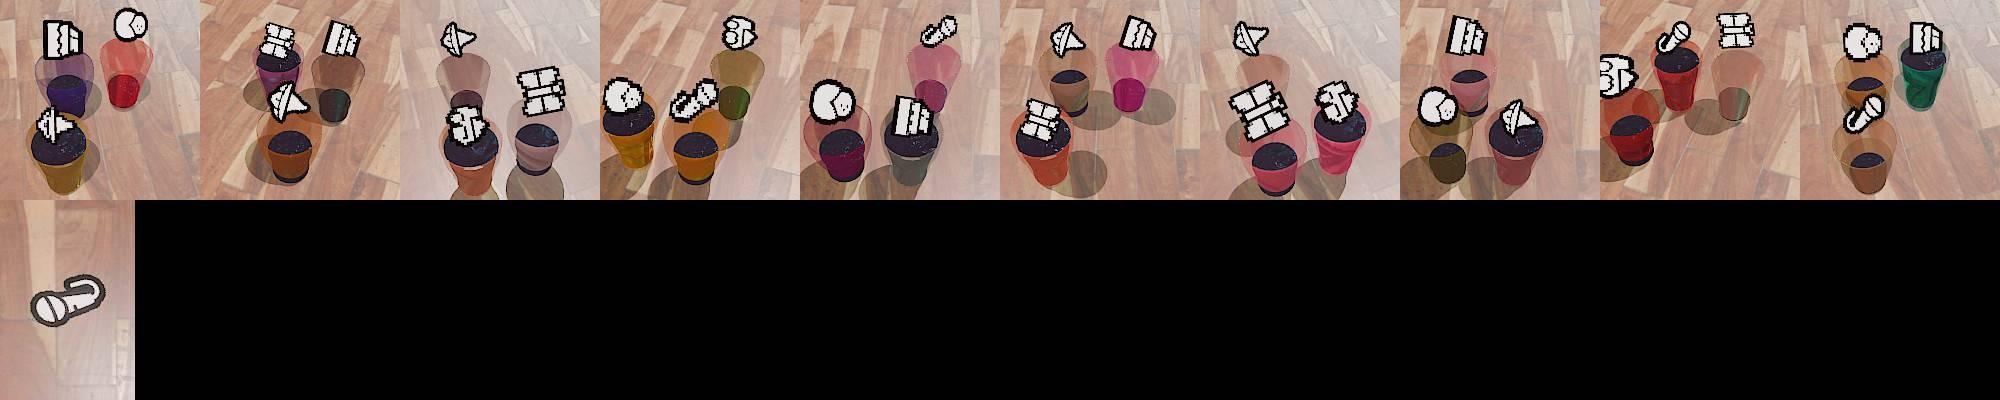icon: (24, 273, 106, 330), (1230, 79, 1292, 144), (514, 65, 566, 118), (1314, 78, 1358, 126), (668, 79, 719, 121), (809, 78, 856, 122), (1019, 97, 1061, 144), (890, 93, 934, 138), (1417, 85, 1460, 129), (446, 103, 489, 146), (1599, 52, 1639, 98), (1445, 15, 1487, 57), (258, 22, 300, 64), (268, 80, 311, 121), (602, 76, 647, 116), (42, 18, 82, 61), (1714, 11, 1756, 51), (1844, 93, 1885, 132), (321, 19, 361, 59), (1842, 22, 1883, 60), (1048, 20, 1088, 59), (1119, 14, 1158, 52), (37, 104, 75, 144), (440, 20, 478, 59), (1501, 97, 1538, 135), (721, 15, 758, 51), (112, 6, 149, 42), (920, 14, 958, 48), (1656, 20, 1694, 55), (1908, 20, 1944, 56), (1233, 20, 1267, 57)
